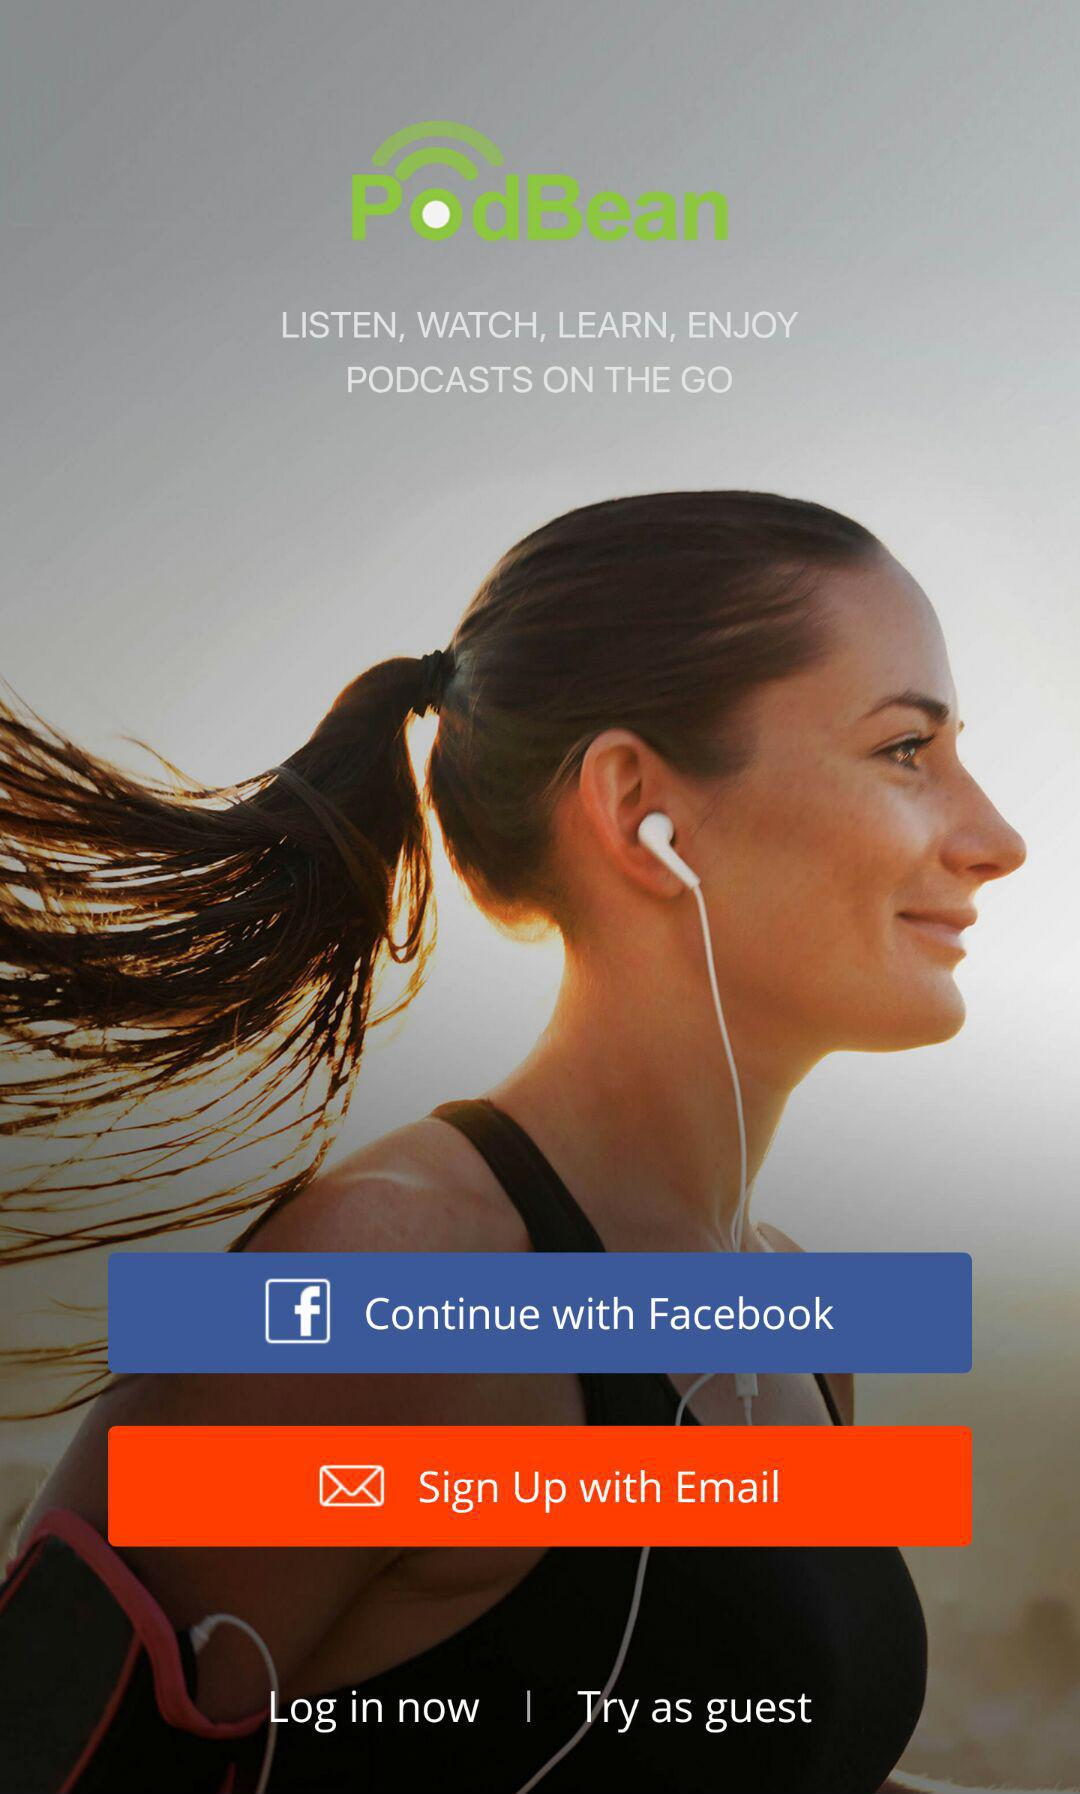BackgroundImage: (1, 3, 1080, 1794)
Image: (351, 120, 729, 242)
Text: (282, 311, 799, 395), (577, 1690, 814, 1734), (272, 1690, 482, 1735)
TextButton: (108, 1425, 972, 1548), (109, 1252, 972, 1374)
